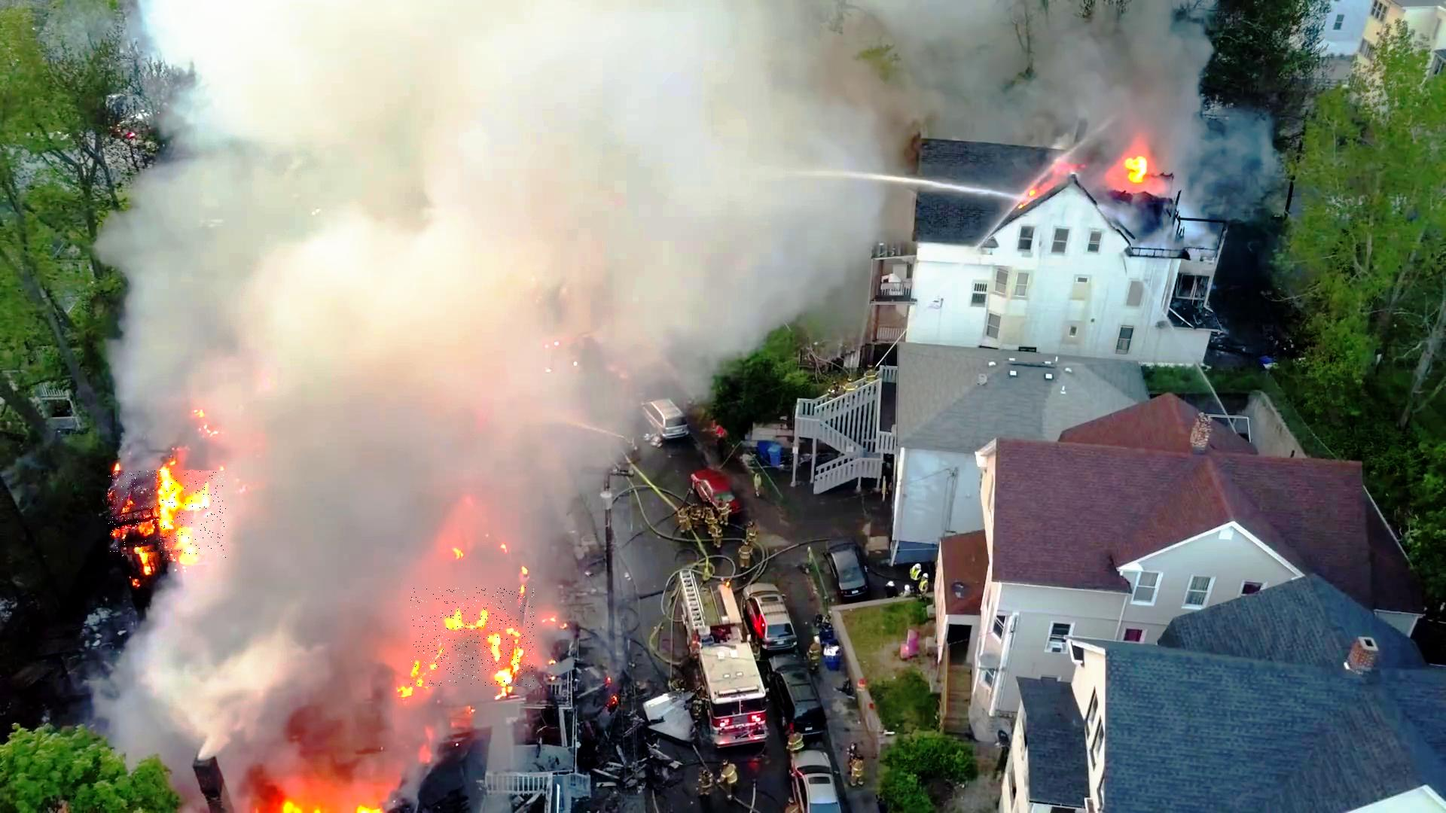fire: (411, 587, 534, 687), (108, 471, 226, 560)
